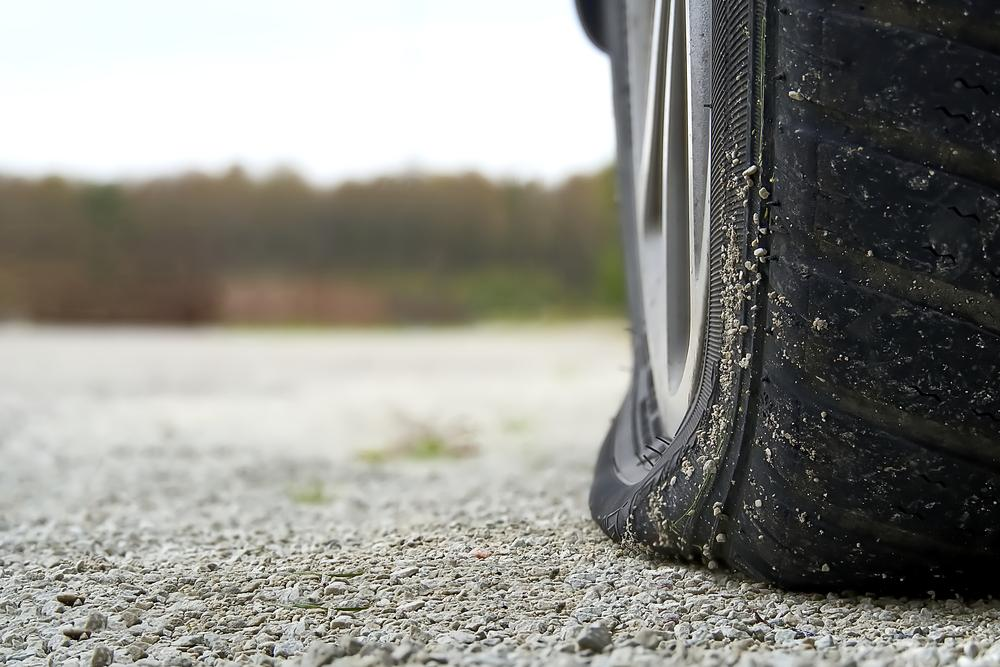tire flat: (590, 0, 1000, 602)
